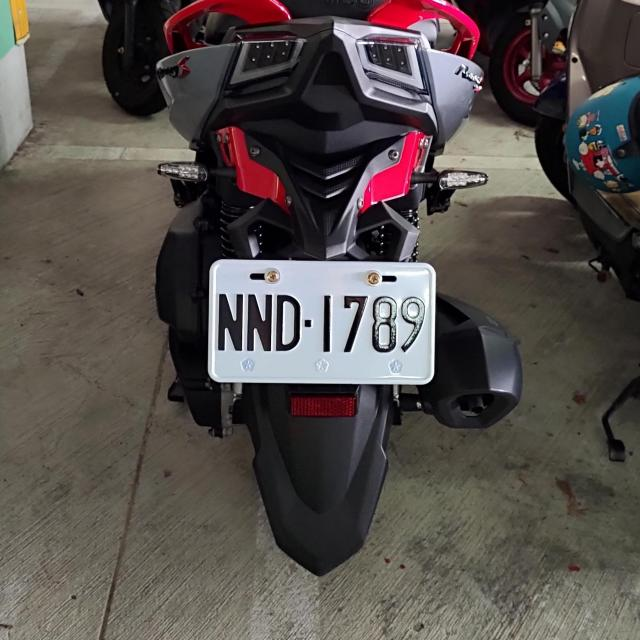W: (208, 257, 435, 383)
